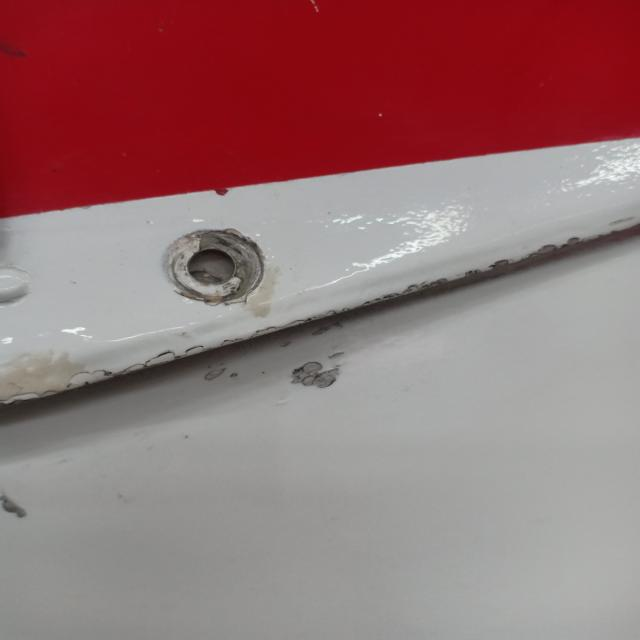Rupture: (360, 183, 621, 322), (134, 200, 280, 327), (282, 344, 358, 420)
